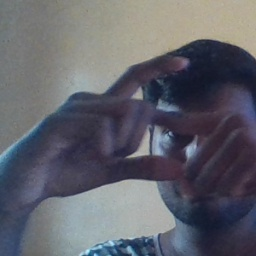E: (91, 53, 208, 184)
